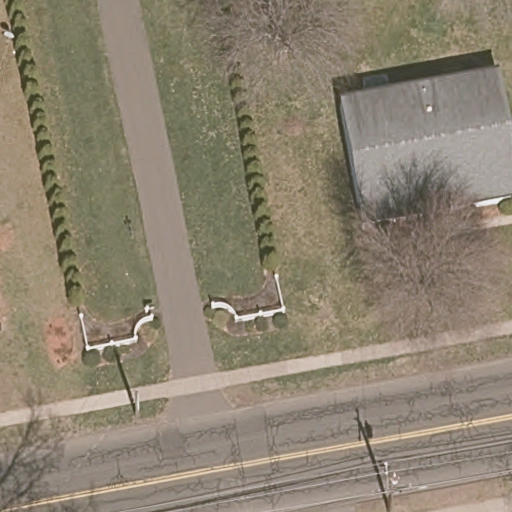DT: (380, 460, 400, 508)
